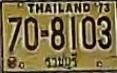0: (24, 16, 38, 50), (81, 15, 95, 48)
1: (70, 15, 76, 49)
3: (97, 15, 110, 48)
7: (8, 16, 22, 51)
8: (50, 16, 64, 49)
RBR: (44, 52, 80, 70)
